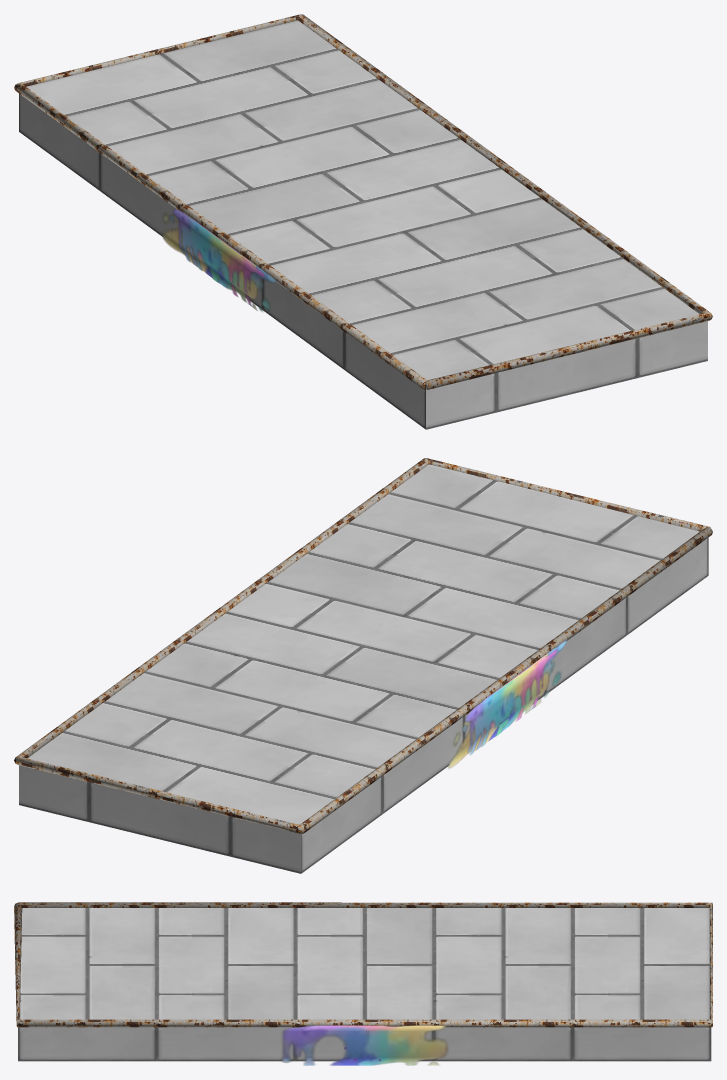
The model's file is ManualPad.glb.
3 renders of one model, top to bottom at view 1: azimuth 30°, elevation 25°; view 2: azimuth 150°, elevation 25°; view 3: azimuth 270°, elevation 25°, orthographic. The views are drawn at different scales.
Parts seen in each view (by area): view 1: ManualPad_Body, ManualPad_Edge, ManualPad_Paint; view 2: ManualPad_Body, ManualPad_Edge, ManualPad_Paint; view 3: ManualPad_Body, ManualPad_Edge, ManualPad_Paint.
Boxes of the visible parts, box(x1,y1,x2,y2) form: ManualPad_Body: box(19, 20, 707, 429); ManualPad_Edge: box(14, 14, 712, 389); ManualPad_Paint: box(162, 208, 276, 311); ManualPad_Body: box(19, 464, 708, 873); ManualPad_Edge: box(14, 458, 712, 833); ManualPad_Paint: box(448, 640, 567, 768); ManualPad_Body: box(18, 908, 711, 1061); ManualPad_Edge: box(14, 902, 712, 1027); ManualPad_Paint: box(280, 1025, 448, 1065).
Size of the model in its own units: 2.07 by 0.3659 by 5.04.
4 materials, 4 textured.
